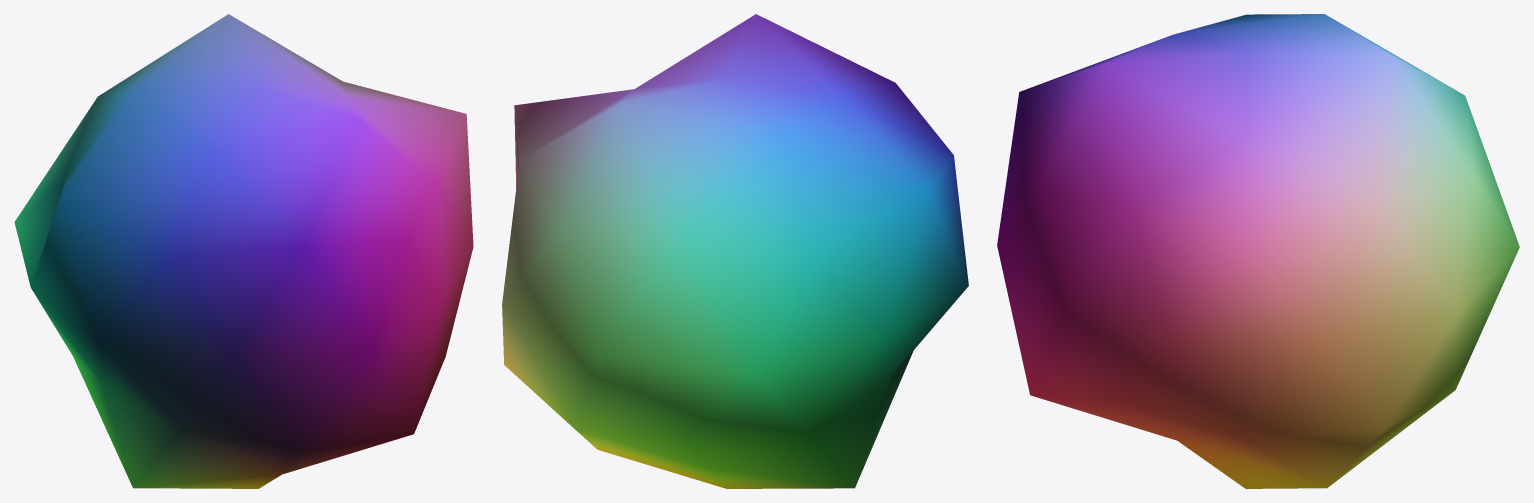
The model's file is SM_FX_MeteorRock.fbx.
3 views of the same model, side by side, from view 1: azimuth 30°, elevation 25°; view 2: azimuth 150°, elevation 25°; view 3: azimuth 270°, elevation 25° (orthographic). The views are drawn at different scales.
Visible parts, largest first — view 1: SM_FX_MeteorRock; view 2: SM_FX_MeteorRock; view 3: SM_FX_MeteorRock.
Boxes of the visible parts, bbox=[...] form: SM_FX_MeteorRock: bbox=[14, 14, 473, 488]; SM_FX_MeteorRock: bbox=[502, 14, 968, 488]; SM_FX_MeteorRock: bbox=[997, 14, 1519, 488].
Bounding box in the file's own units: 0.5513 × 0.5391 × 0.5641.
